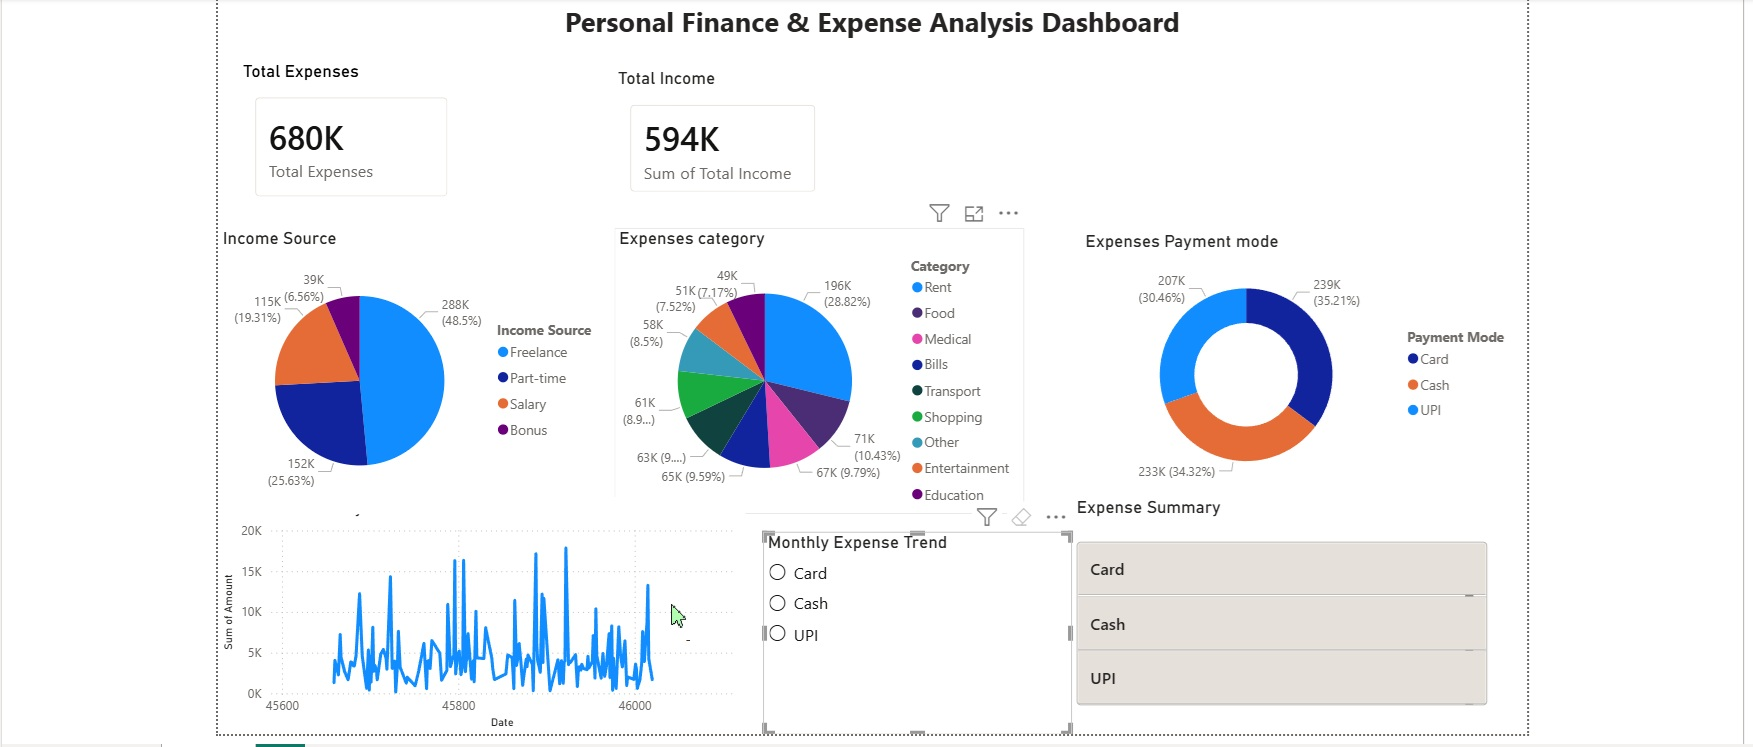

The page's visual inventory and layout, read from the dashboard file:
{"tool":"powerbi","page":{"name":"Page 1","canvas":[1280,720],"ordinal":0},"visuals":[{"type":"cardVisual","title":"Total  Expenses","fields":{"Data":["Expenses.Total Expenses"]},"box":[19.2,61.7,222.3,150.9],"z":0},{"type":"pieChart","title":"Expenses  category","fields":{"Category":["Expenses.Category"],"Y":["Sum(Expenses.Amount)"]},"box":[387.6,225,401.1,280],"z":1000},{"type":"lineChart","fields":{"Category":["Expenses.Date"],"Y":["Sum(Expenses.Amount)"]},"box":[0,487.9,387.6,232.3],"z":2000},{"type":"donutChart","title":"Expenses  Payment mode ","fields":{"Category":["Expenses.Payment Mode"],"Y":["Sum(Expenses.Amount)"]},"box":[843.9,227.8,436.4,263.5],"z":3000},{"type":"listSlicer","title":" Monthly Expense Trend ","fields":{"Values":["Expenses.Payment Mode"]},"box":[398.6,522.1,410.9,198.1],"z":4000},{"type":"cardVisual","title":"Total Income ","fields":{"Data":["Sum(Income.Income)"]},"box":[387,68.6,215.4,138.6],"z":5000},{"type":"cardVisual","title":"Expense Summary","fields":{"Rows":["Expenses.Payment Mode"],"Data":["Min(Expenses.Category)","Sum(Expenses.Amount)"]},"box":[835.7,488.5,411.7,231.9],"z":5001},{"type":"pieChart","title":"Income  Source ","fields":{"Category":["Income.Income Source"],"Y":["Sum(Income.Total  Income)"]},"box":[0,225,387.6,280],"z":5002},{"type":"textbox","box":[0,0,1280.3,62.4],"z":5003}]}

Visuals, with their boxes on the page's 1280x720 design canvas (x1, y1, x2, y2). These are canvas units, not pixel positions in the 1753x747 screenshot, which may show the page scaled, cropped or inside an application window:
"Total  Expenses" cardVisual: locate(19, 62, 242, 213)
"Expenses  category" pieChart: locate(388, 225, 789, 505)
lineChart - Expenses.Date x Sum(Expenses.Amount): locate(0, 488, 388, 720)
"Expenses  Payment mode " donutChart: locate(844, 228, 1280, 491)
" Monthly Expense Trend " listSlicer: locate(399, 522, 810, 720)
"Total Income " cardVisual: locate(387, 69, 602, 207)
"Expense Summary" cardVisual: locate(836, 488, 1247, 720)
"Income  Source " pieChart: locate(0, 225, 388, 505)
textbox: locate(0, 0, 1280, 62)
